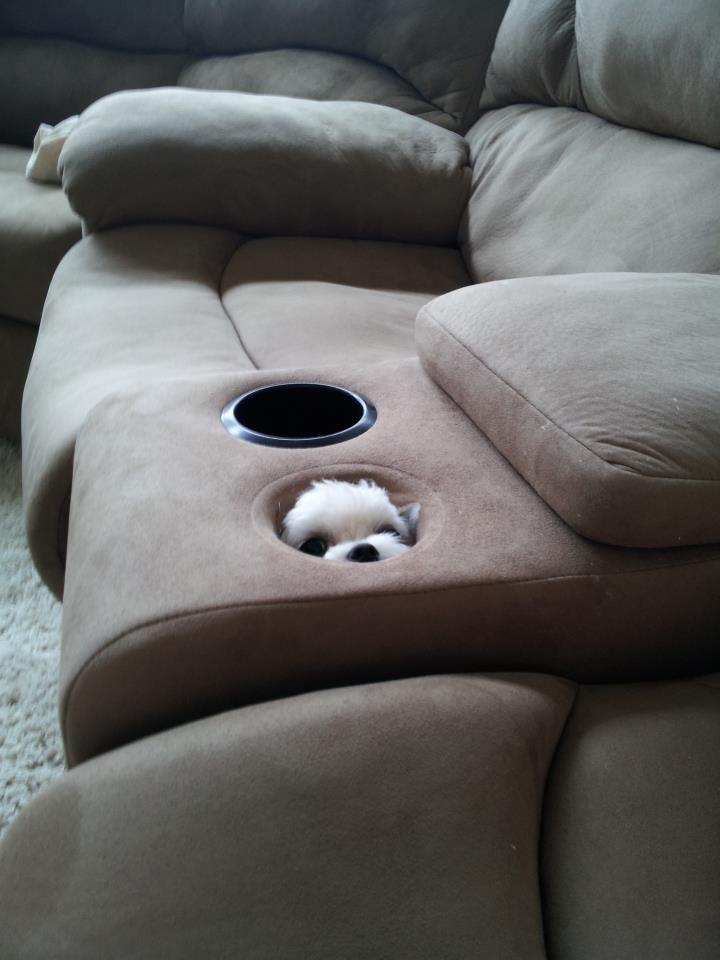puppy-dog: (279, 479, 422, 563)
